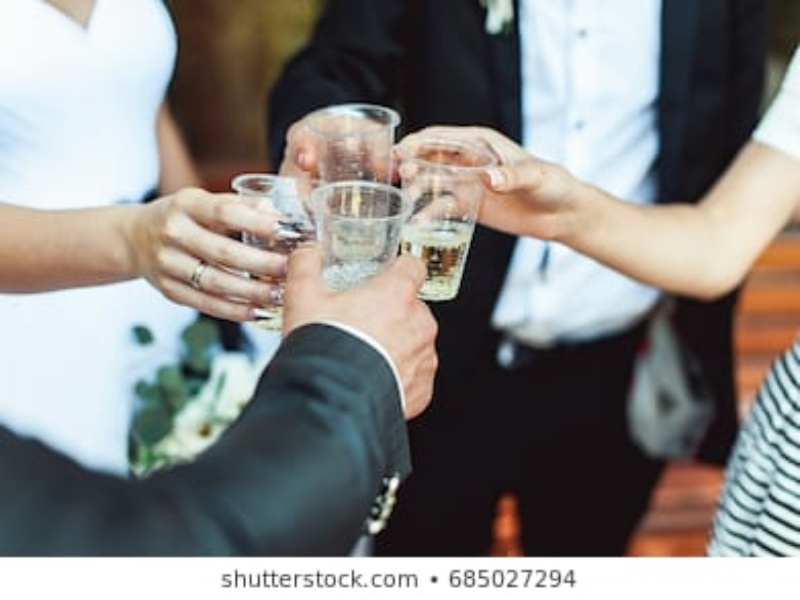plastic-cup: (388, 122, 481, 308), (223, 165, 324, 320), (306, 174, 407, 292), (296, 100, 403, 179)
